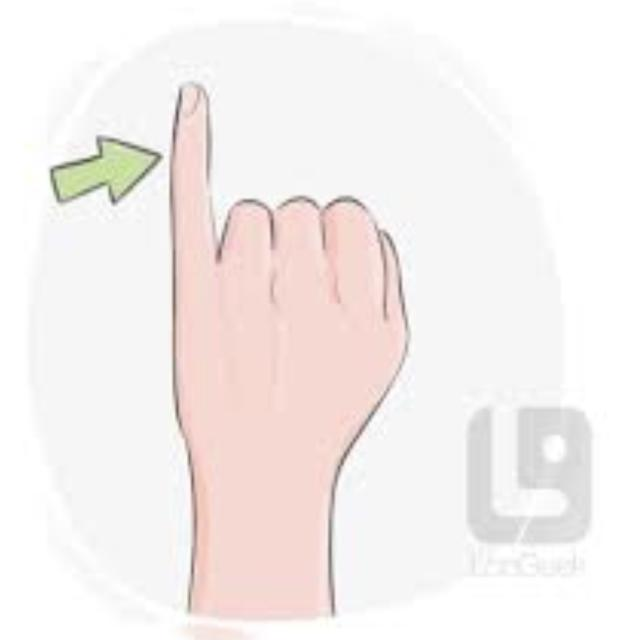pinky: (143, 68, 230, 295)
